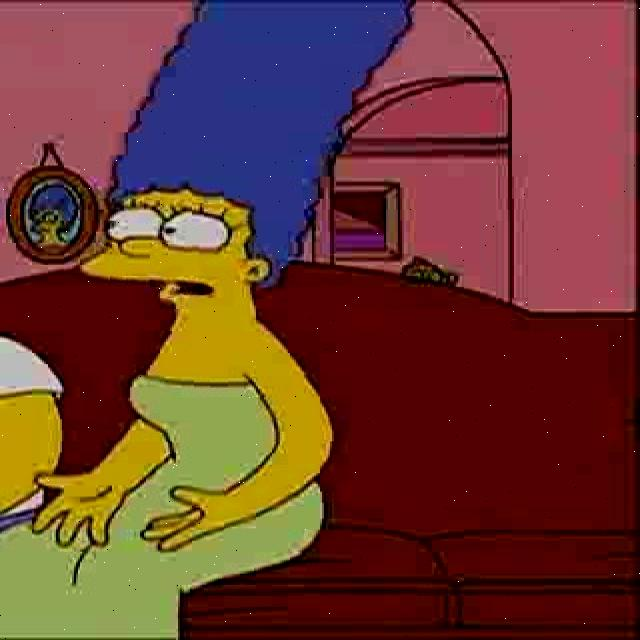Marge Simpson: (80, 1, 416, 325)
